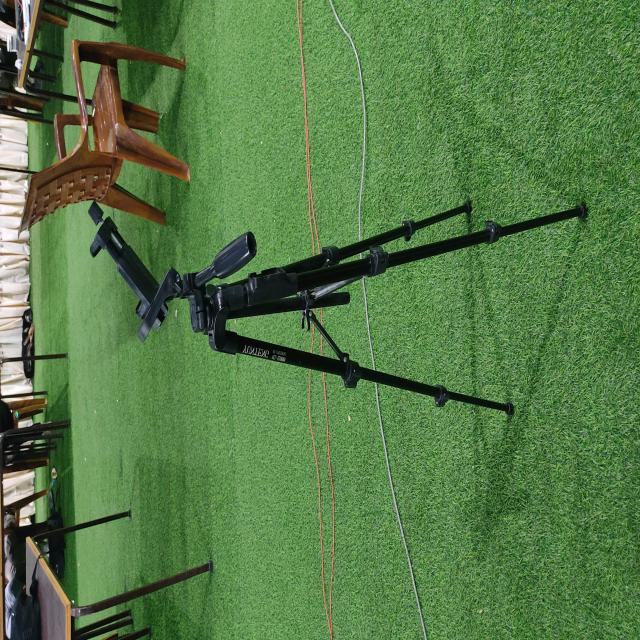Camer Stand: (88, 196, 588, 420)
